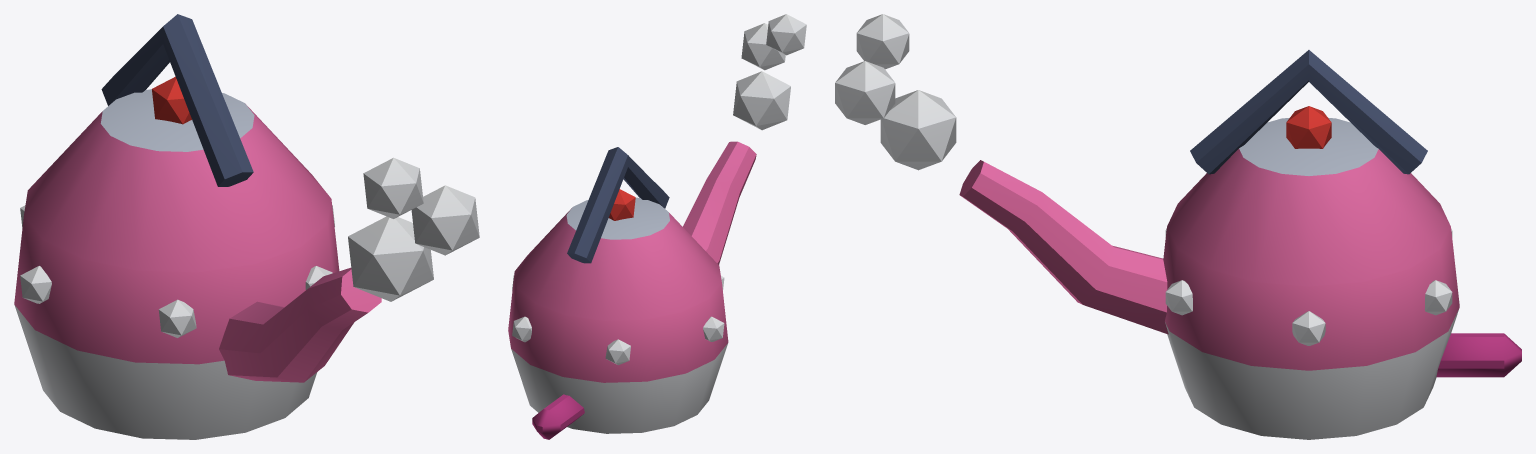
Rendered from w_g_kettle.glb.
3 views of the same model, side by side, from view 1: azimuth 30°, elevation 25°; view 2: azimuth 150°, elevation 25°; view 3: azimuth 270°, elevation 25° (orthographic). The views are drawn at different scales.
Visible parts, largest first — view 1: body; view 2: body; view 3: body.
Boxes of the visible parts, x1,y1,x2,y2 form: body: (14,14,479,439); body: (508,14,806,439); body: (835,14,1521,439).
Bounding box in the file's own units: 0.2216 × 0.279 × 0.4644.
